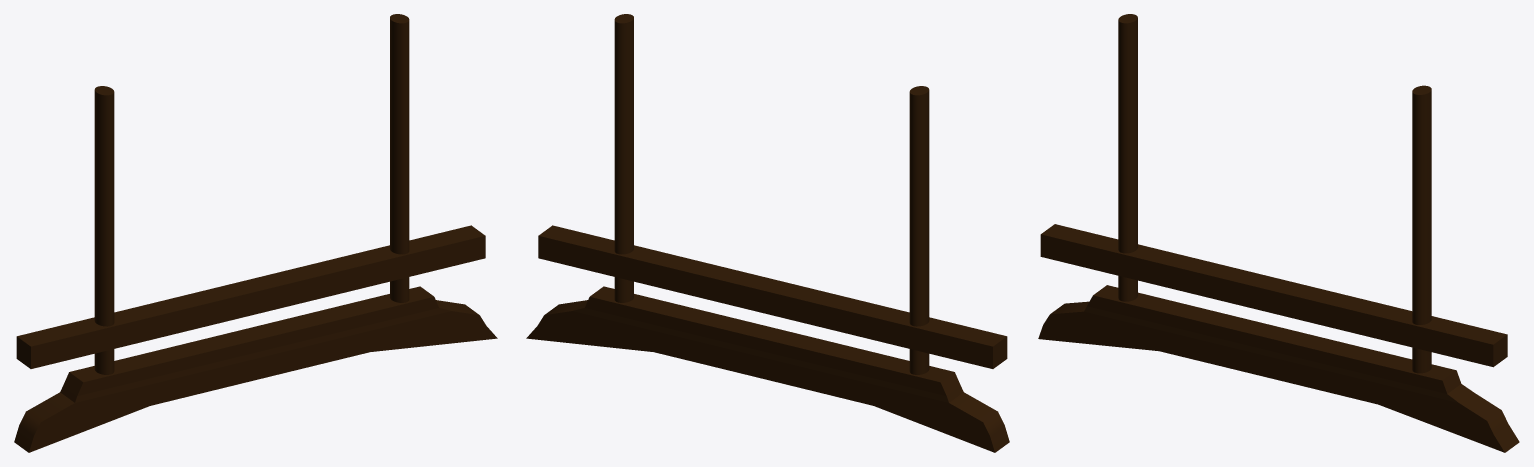
The model's file is dojo door frame.fbx.
3 renders of one model, left to right at view 1: azimuth 30°, elevation 25°; view 2: azimuth 150°, elevation 25°; view 3: azimuth 330°, elevation 25°, orthographic.
Visible parts, largest first — view 1: polySurface2; view 2: polySurface2; view 3: polySurface2.
Part boxes in pixels (box(x1,y1,x2,y2)): polySurface2: box(14, 14, 497, 452); polySurface2: box(526, 14, 1009, 452); polySurface2: box(1038, 14, 1519, 452).
Size of the model in its own units: 36.64 by 25.13 by 2.
